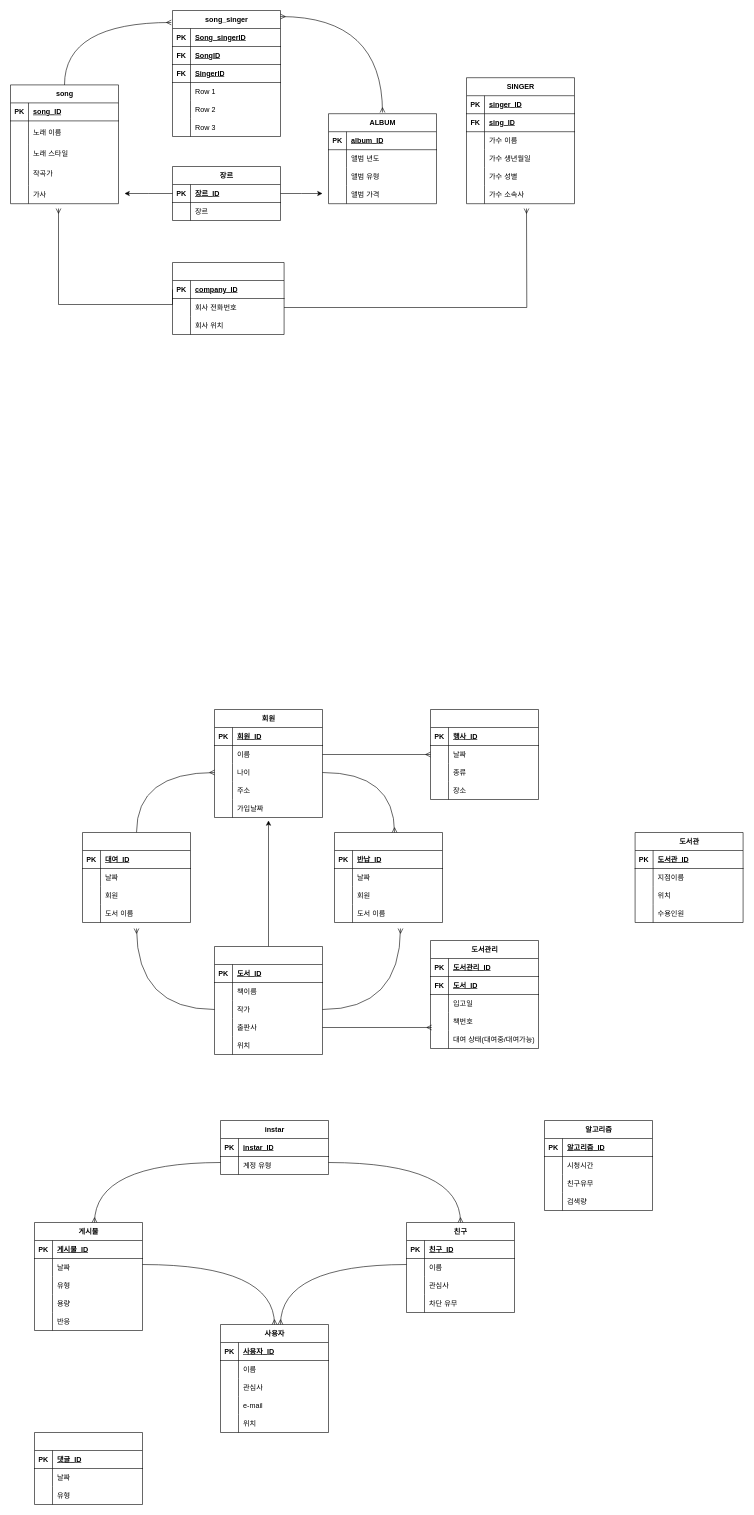
Some shapes in this 754 by 1515 pixel diagram are drawn without their labels. The box of each missing label's shape, as (x1, y1, x2, y2) in pixels:
대여: (82, 832, 190, 922)
댓글: (34, 1432, 142, 1504)
도서: (214, 946, 322, 1054)
반납: (334, 832, 442, 922)
소속사: (172, 262, 284, 334)
행사: (430, 709, 538, 800)
